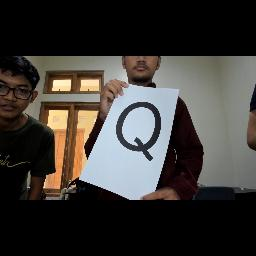q: (112, 98, 170, 166)
